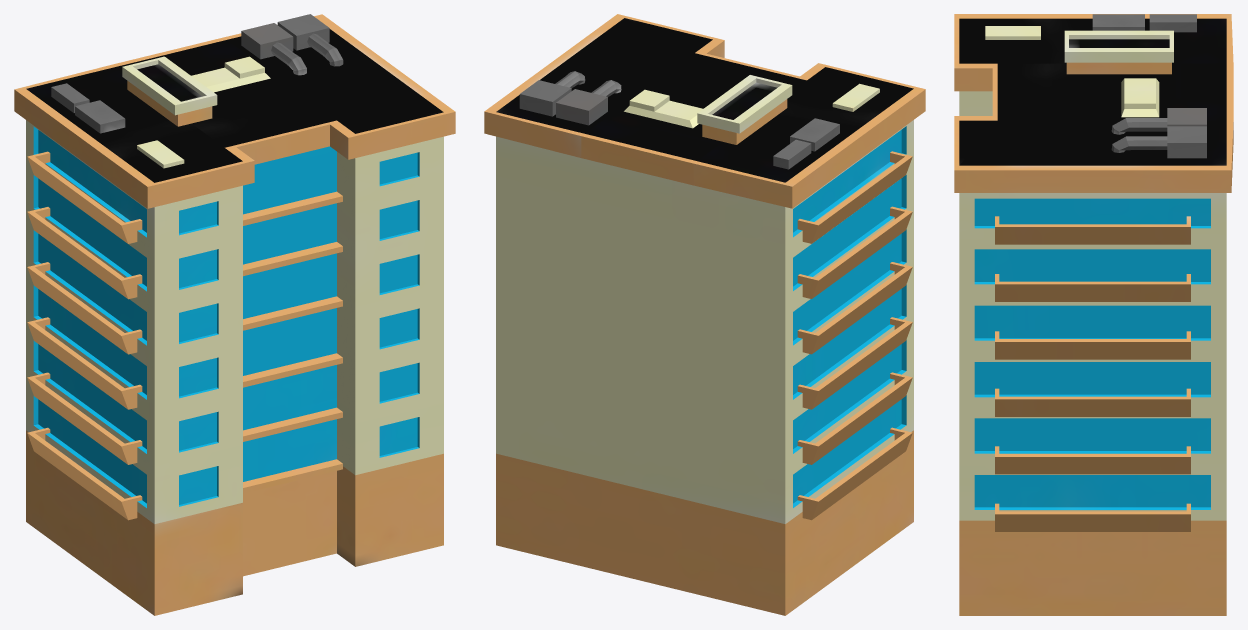
The model's file is Building.fbx.
3 renders of one model, left to right at view 1: azimuth 30°, elevation 25°; view 2: azimuth 150°, elevation 25°; view 3: azimuth 270°, elevation 25°, orthographic. The views are drawn at different scales.
Parts seen in each view (by area): view 1: MINIATURA predio.001; view 2: MINIATURA predio.001; view 3: MINIATURA predio.001.
Boxes of the visible parts, <box> form: MINIATURA predio.001: <box>14,14,455,615</box>; MINIATURA predio.001: <box>484,14,925,615</box>; MINIATURA predio.001: <box>954,14,1233,615</box>.
Bounding box in the file's own units: 12.32 × 16.72 × 8.91.
Materials: 1 (1 with a texture image).
